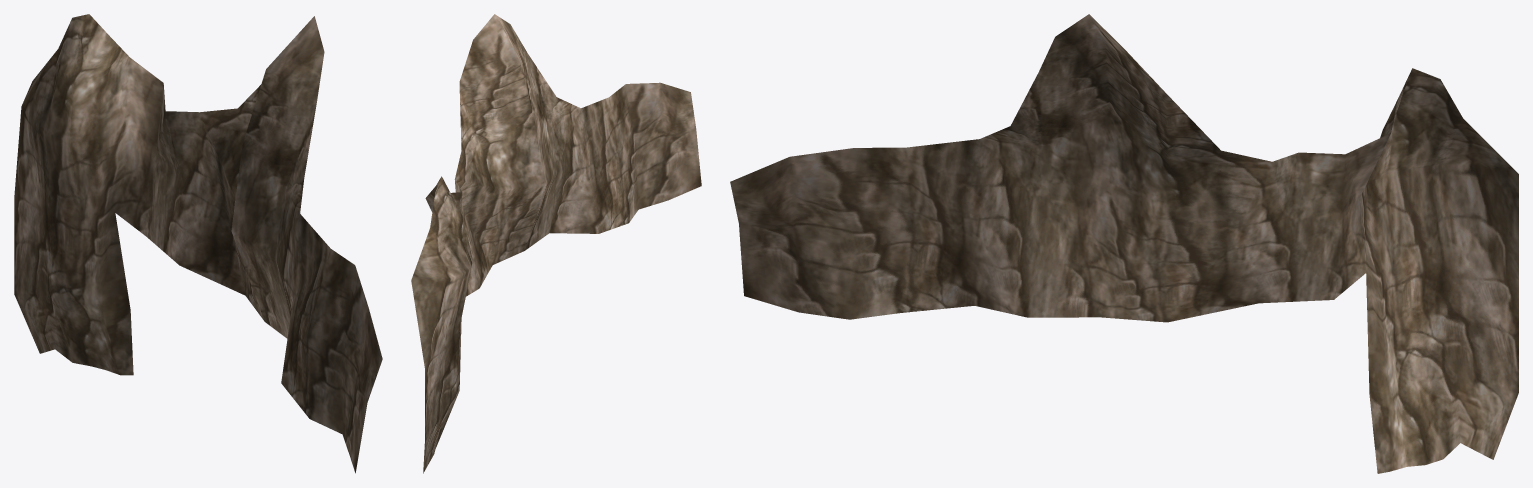
Rendered from OVERHILL_A_01_OBJECT31.fbx.
The picture shows the model from 3 angles, left to right: view 1: azimuth 30°, elevation 25°; view 2: azimuth 150°, elevation 25°; view 3: azimuth 270°, elevation 25°; orthographic projection. The views are drawn at different scales.
Visible parts, largest first — view 1: OVERHILL_A_01_OBJECT31; view 2: OVERHILL_A_01_OBJECT31; view 3: OVERHILL_A_01_OBJECT31.
Boxes of the visible parts, x1=… form: OVERHILL_A_01_OBJECT31: x1=14, y1=14, x2=382, y2=473; OVERHILL_A_01_OBJECT31: x1=411, y1=14, x2=701, y2=473; OVERHILL_A_01_OBJECT31: x1=730, y1=14, x2=1518, y2=473.
Bounding box in the file's own units: 52700 × 172134 × 248951.
Materials: 1 (1 with a texture image).
